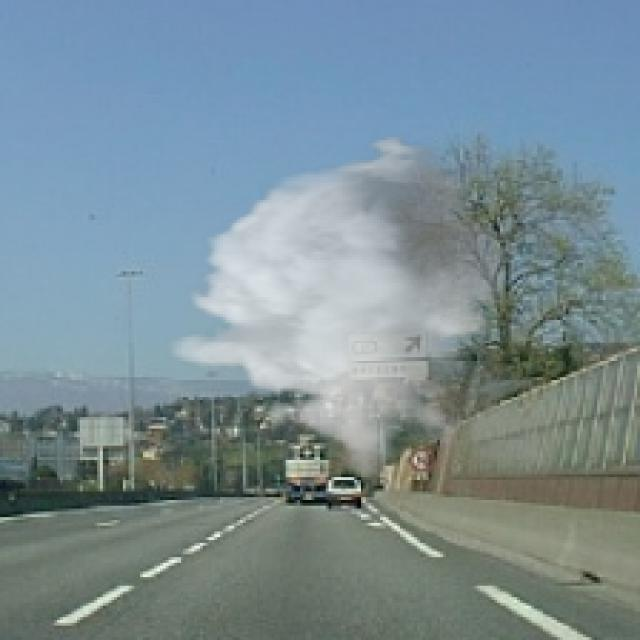Smoke: (166, 131, 532, 480)
